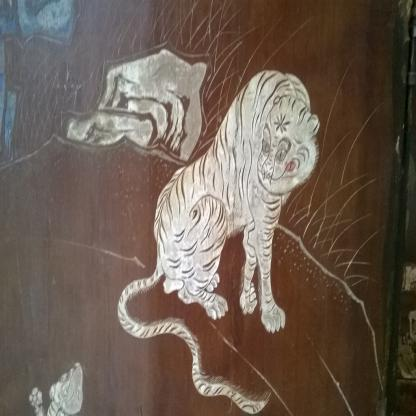Tiger: (117, 67, 320, 416)
